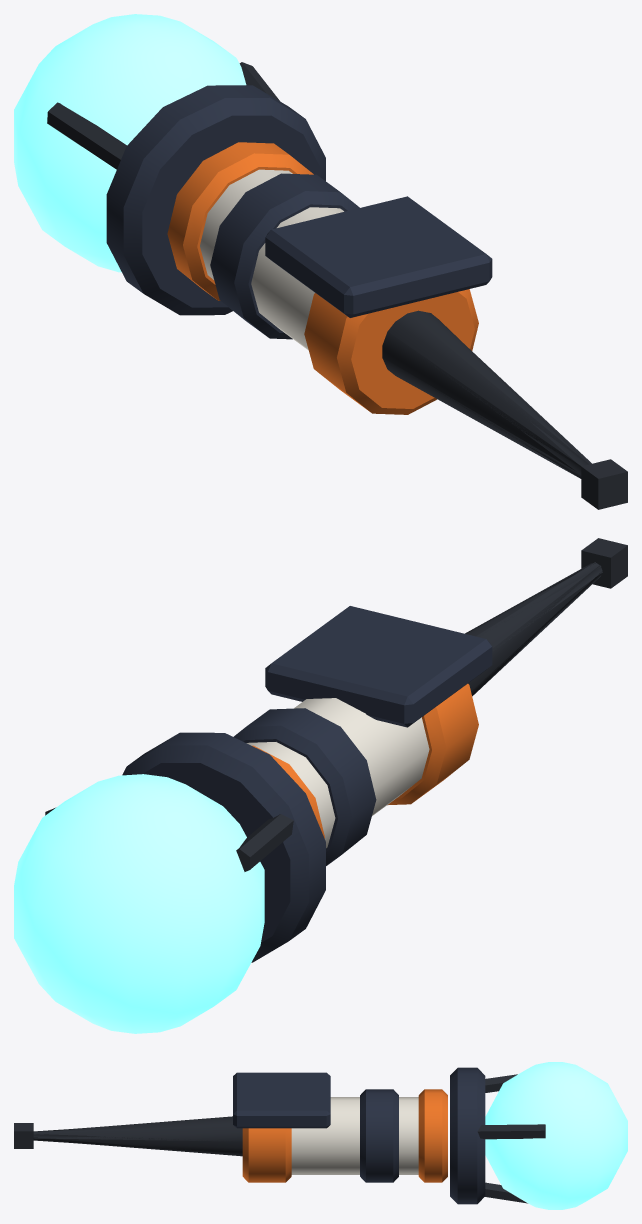
The model's file is wpn_beacon.fbx.
3 views of the same model, one above another, from view 1: azimuth 30°, elevation 25°; view 2: azimuth 150°, elevation 25°; view 3: azimuth 270°, elevation 25° (orthographic). The views are drawn at different scales.
Parts seen in each view (by area): view 1: Body, Head, Muzzle; view 2: Body, Head, Muzzle; view 3: Body, Head, Muzzle.
Part boxes in pixels (x1,y1,x2,y2): Body: (47, 62, 591, 478); Head: (14, 14, 246, 272); Muzzle: (581, 459, 627, 509); Body: (45, 562, 602, 962); Head: (14, 774, 264, 1033); Muzzle: (581, 538, 627, 588); Body: (33, 1067, 545, 1204); Head: (485, 1062, 627, 1209); Muzzle: (14, 1123, 33, 1148).
Bounding box in the file's own units: 0.7224 × 0.7793 × 3.14.
Materials: 3 (1 with a texture image).
